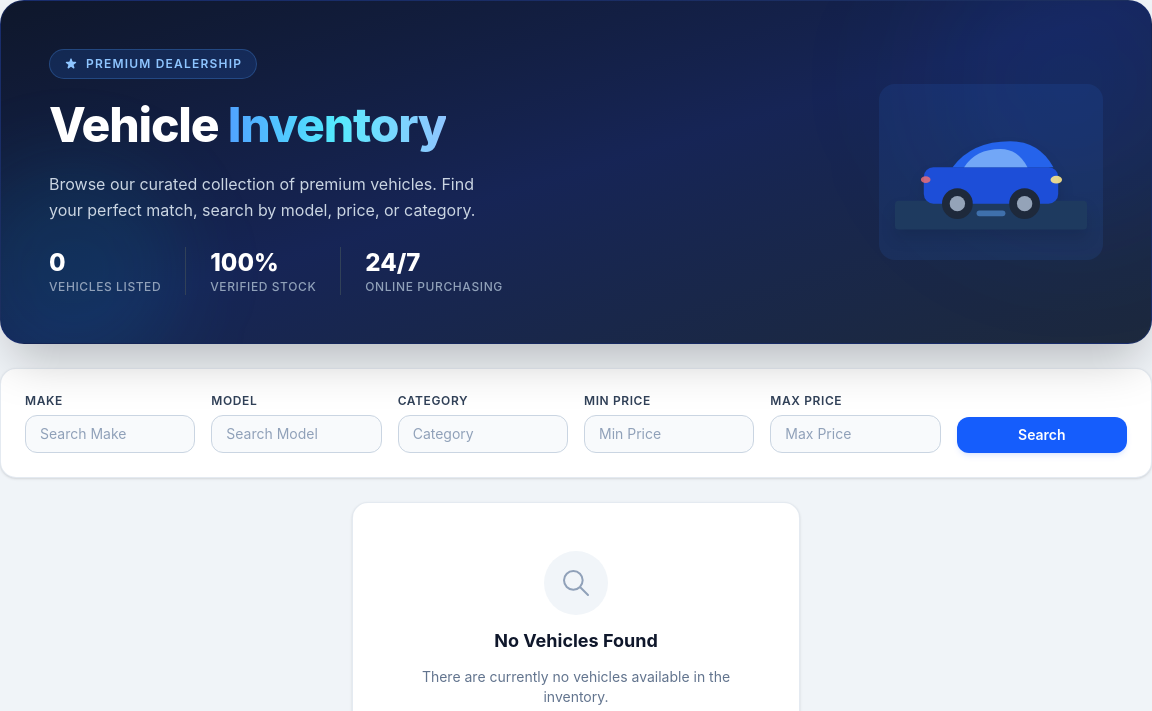
Vehicle Search Feature › should display empty state message when search returns no matching vehicles
Type "NonExistentBrand" into the field with placeholder "Search Make". click: x=110, y=434
box: [25, 415, 195, 453]
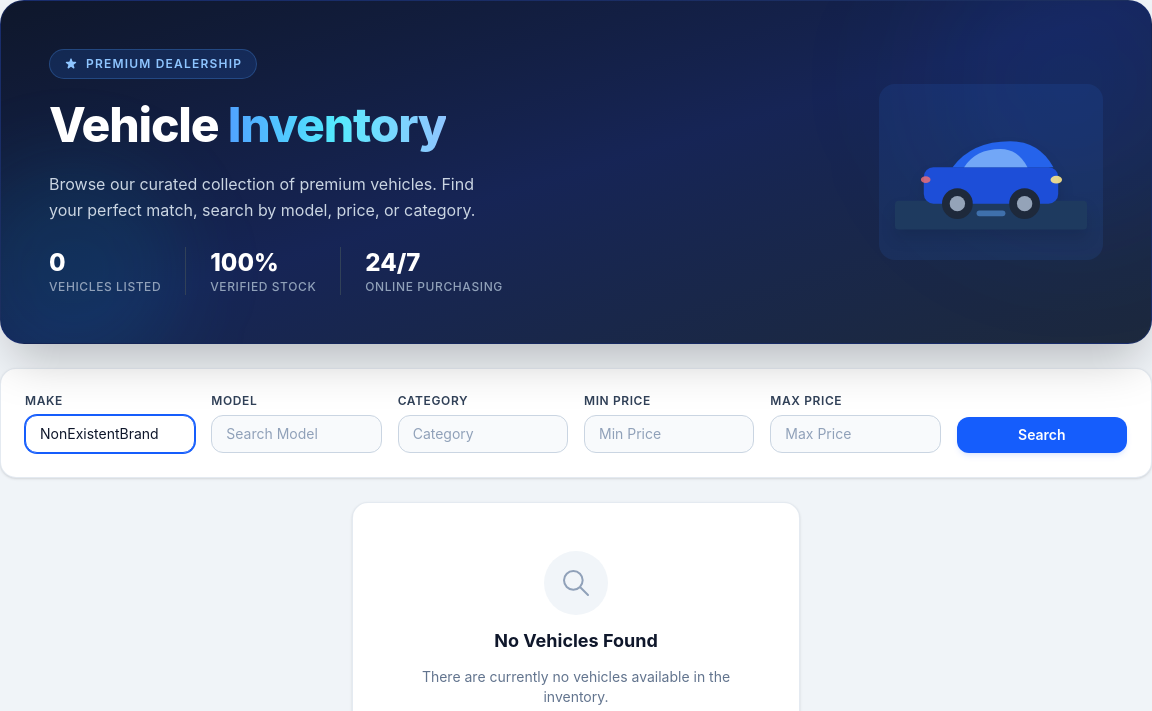
Click the button "Search". click: x=1042, y=435
box: [957, 417, 1127, 453]
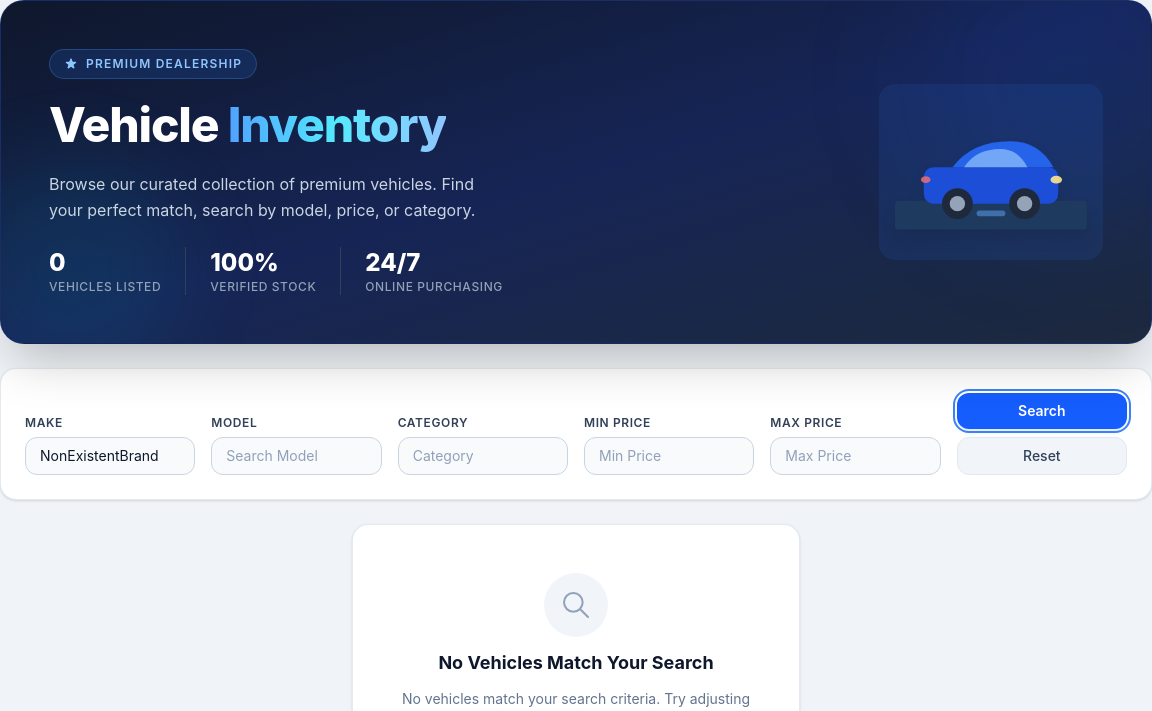
Expected: the heading "No Vehicles Match Your Search" is shown, [438, 652, 714, 673]
